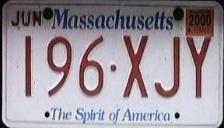1: (21, 33, 40, 99)
6: (76, 33, 107, 98)
9: (45, 34, 77, 96)
J: (153, 35, 184, 98)
X: (119, 33, 152, 99)
Y: (184, 35, 214, 98)
